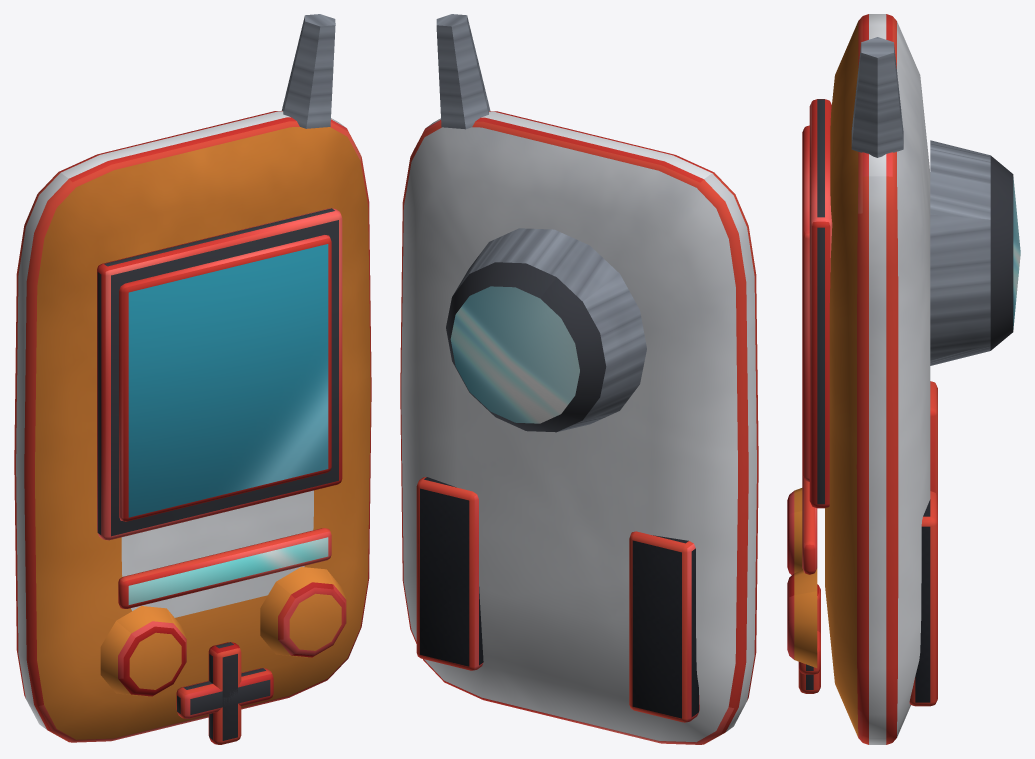
The model's file is Env_Prop_Scanner.fbx.
3 renders of one model, left to right at view 1: azimuth 30°, elevation 25°; view 2: azimuth 150°, elevation 25°; view 3: azimuth 270°, elevation 25°, orthographic. The views are drawn at different scales.
Parts seen in each view (by area): view 1: Env_Prop_Scanner; view 2: Env_Prop_Scanner; view 3: Env_Prop_Scanner.
Part boxes in pixels (box(x1,y1,x2,y2)): Env_Prop_Scanner: box(14, 14, 371, 744); Env_Prop_Scanner: box(400, 14, 758, 744); Env_Prop_Scanner: box(787, 14, 1020, 744).
Bounding box in the file's own units: 11.25 × 6.2 × 20.82.
